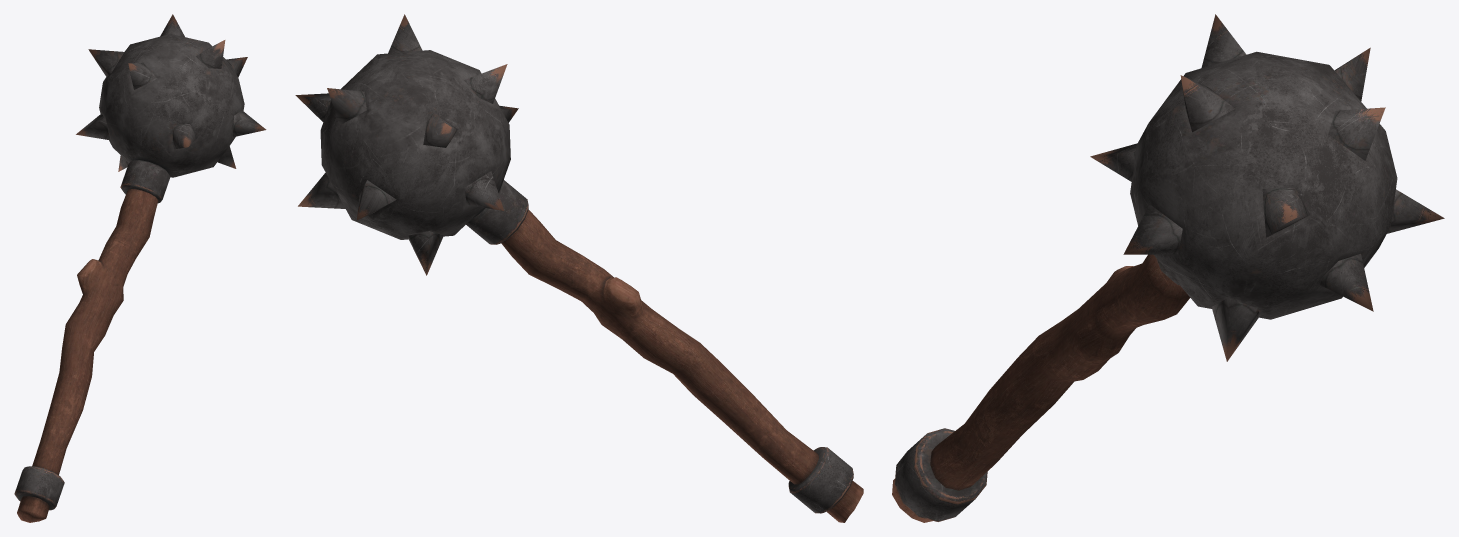
Rendered from mace.glb.
3 renders of one model, left to right at view 1: azimuth 30°, elevation 25°; view 2: azimuth 150°, elevation 25°; view 3: azimuth 270°, elevation 25°, orthographic. The views are drawn at different scales.
Parts seen in each view (by area): view 1: Mace_low, Shaft_low, Rings_low; view 2: Mace_low, Shaft_low, Rings_low; view 3: Mace_low, Shaft_low, Rings_low.
Part boxes in pixels (<box>): Mace_low: <box>76,14,266,177</box>; Shaft_low: <box>17,189,158,522</box>; Rings_low: <box>14,160,170,510</box>; Mace_low: <box>295,14,518,275</box>; Shaft_low: <box>501,209,863,522</box>; Rings_low: <box>466,180,853,513</box>; Mace_low: <box>1090,14,1444,361</box>; Shaft_low: <box>892,254,1190,522</box>; Rings_low: <box>894,257,1179,521</box>.
Bounding box in the file's own units: 0.6176 × 0.6652 × 0.4893.
1 material, 1 textured.
